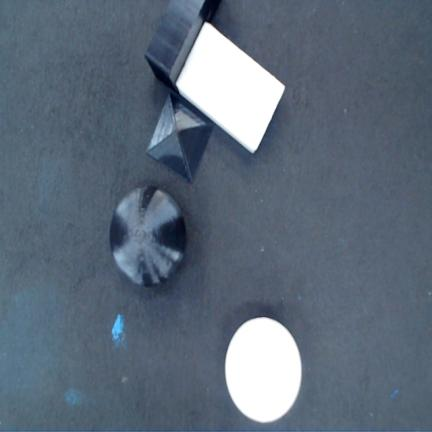Esfera: (225, 317, 302, 424), (110, 185, 186, 286)
Paralelepipedo: (176, 20, 284, 153), (145, 0, 221, 92)
Piramide: (145, 94, 214, 185)
